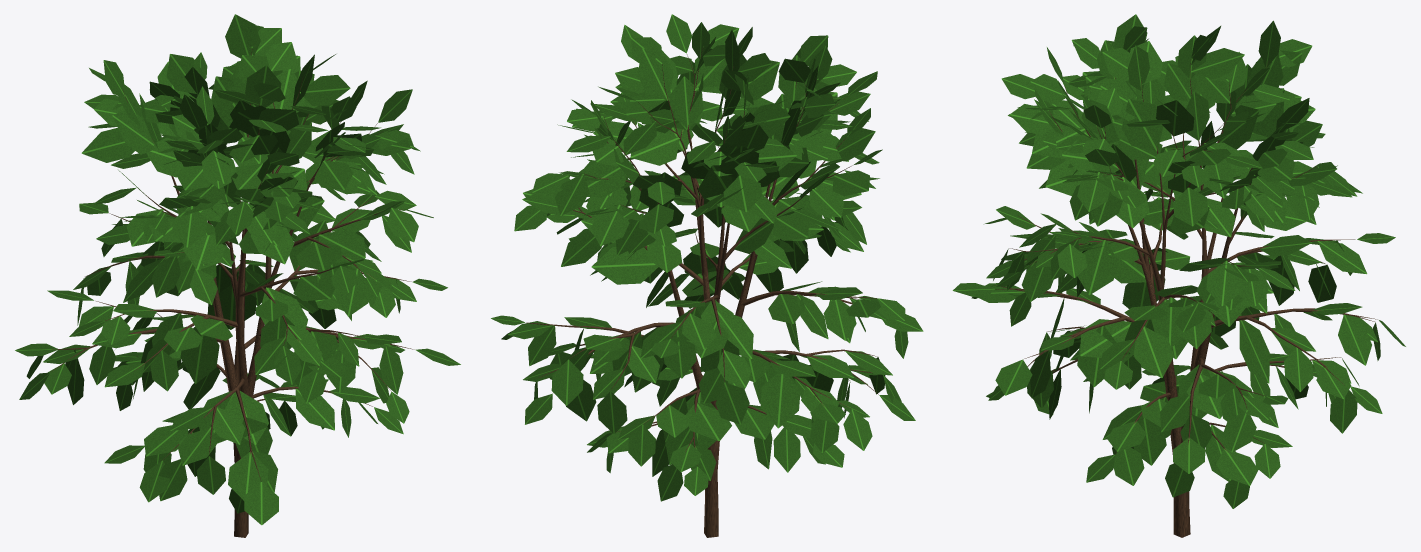
The model's file is arce.glb.
3 renders of one model, left to right at view 1: azimuth 30°, elevation 25°; view 2: azimuth 150°, elevation 25°; view 3: azimuth 270°, elevation 25°, orthographic.
Visible parts, largest first — view 1: leaves, tree; view 2: leaves, tree; view 3: leaves, tree.
Part boxes in pixels (bbox=[...]): leaves: bbox=[15, 14, 460, 525]; tree: bbox=[50, 49, 414, 537]; leaves: bbox=[491, 14, 923, 501]; tree: bbox=[526, 47, 878, 537]; leaves: bbox=[952, 14, 1405, 508]; tree: bbox=[994, 59, 1377, 537].
Size of the model in its own units: 0.7883 by 1 by 0.8395.
Materials: 2 (2 with a texture image).
